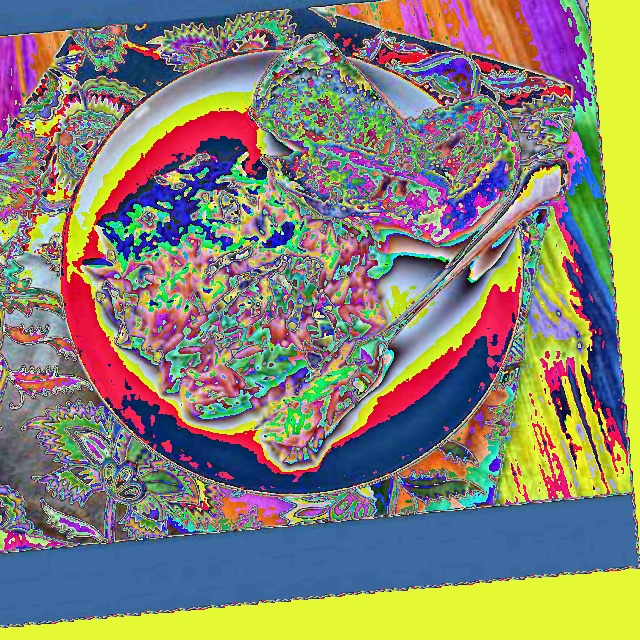background: (80, 35, 519, 466)
